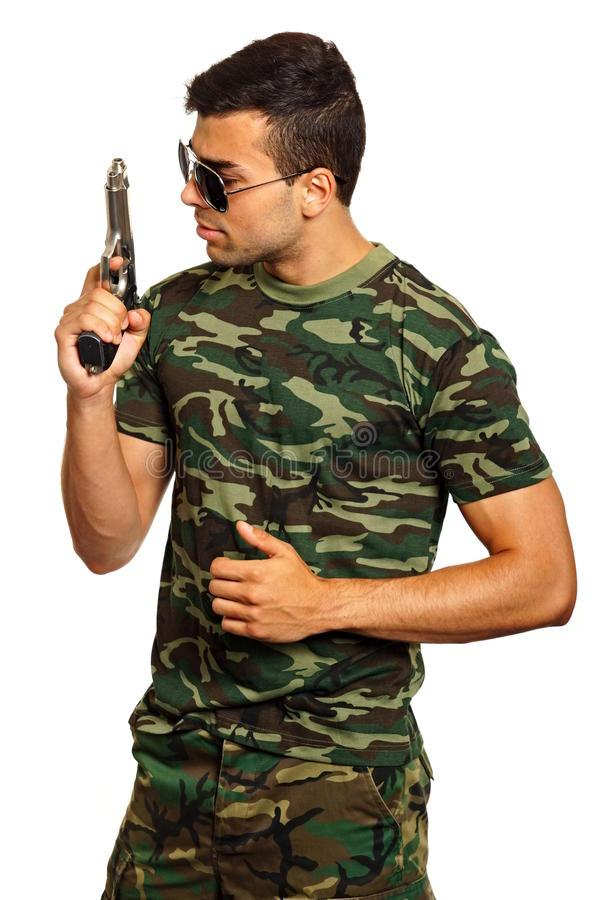criminal: (48, 22, 580, 900)
weapon: (67, 152, 144, 380)
